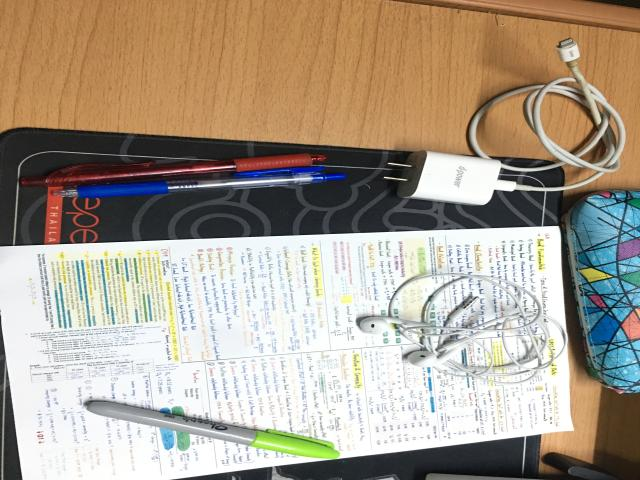Pen: (87, 401, 340, 459), (20, 153, 328, 187), (55, 172, 345, 198)
paper: (2, 225, 572, 479)
wire: (398, 33, 625, 205), (358, 273, 567, 384)
